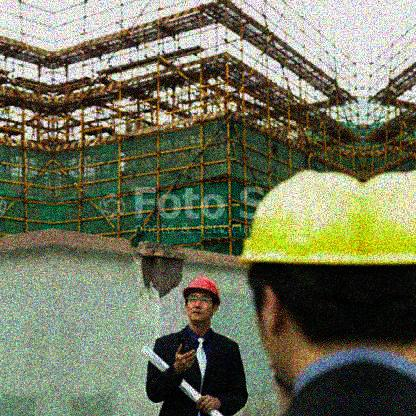helmet: (240, 173, 368, 382), (183, 276, 220, 324)
